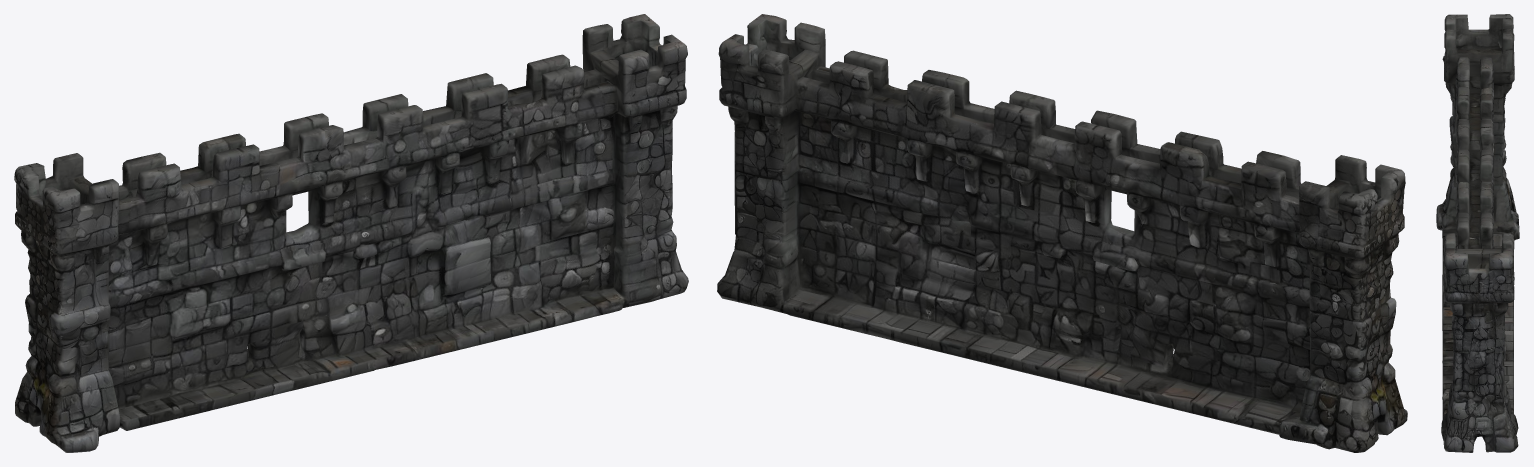
Rendered from fort_wall.glb.
3 renders of one model, left to right at view 1: azimuth 30°, elevation 25°; view 2: azimuth 150°, elevation 25°; view 3: azimuth 270°, elevation 25°, orthographic. The views are drawn at different scales.
Parts seen in each view (by area): view 1: tripo_node_c4a31683-9b81-4cfe-80dd-737395bc9ff5; view 2: tripo_node_c4a31683-9b81-4cfe-80dd-737395bc9ff5; view 3: tripo_node_c4a31683-9b81-4cfe-80dd-737395bc9ff5.
Boxes of the visible parts, bbox=[...] form: tripo_node_c4a31683-9b81-4cfe-80dd-737395bc9ff5: bbox=[14, 14, 688, 452]; tripo_node_c4a31683-9b81-4cfe-80dd-737395bc9ff5: bbox=[717, 14, 1407, 452]; tripo_node_c4a31683-9b81-4cfe-80dd-737395bc9ff5: bbox=[1436, 14, 1519, 452].
Size of the model in its own units: 4 by 1.56 by 0.575.
1 material, 1 textured.
